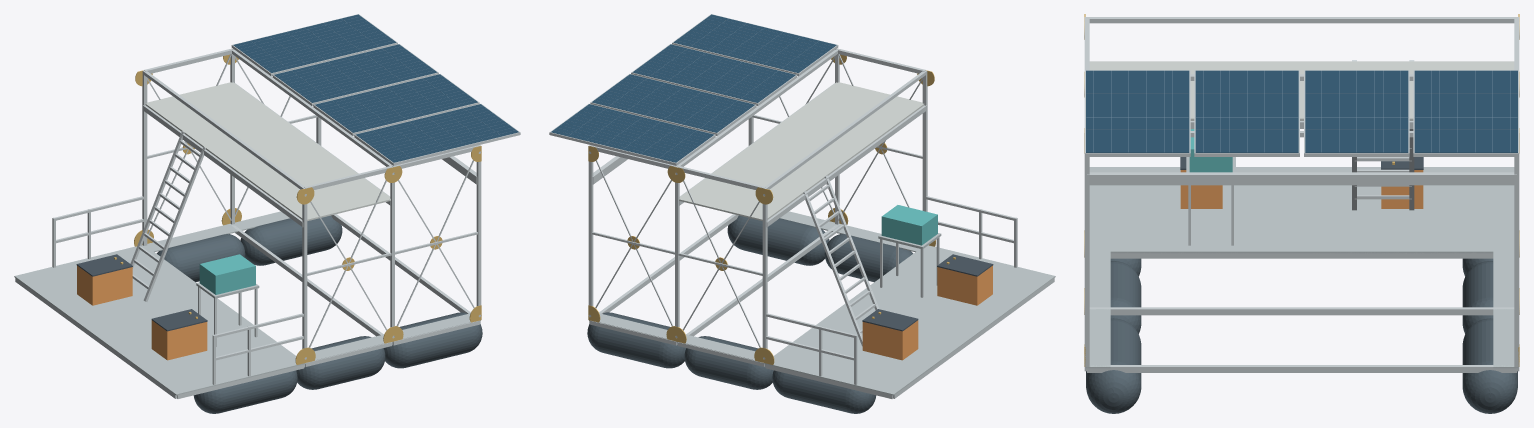
File: EXO01_reference.glb
3 renders of one model, left to right at view 1: azimuth 30°, elevation 25°; view 2: azimuth 150°, elevation 25°; view 3: azimuth 270°, elevation 25°, orthographic. The views are drawn at different scales.
Parts seen in each view (by area): view 1: panel_face (×4), deck_plate_proxy, upper_observation_deck_proxy, float_envelope_proxy (×5), battery_proxy (×2), panel_frame (×4), base_crossmember_end (×2), electronics_proxy, lid (×2), walkway_-1 (×2), walkway_1 (×2), portal_0_header (+12 smaller); view 2: panel_face (×4), deck_plate_proxy, upper_observation_deck_proxy, float_envelope_proxy (×5), battery_proxy (×2), panel_frame (×4), base_crossmember_end (×2), electronics_proxy, lid (×2), walkway_1 (×2), portal_0_header, portal_0_top (+12 smaller); view 3: panel_face (×4), deck_plate_proxy, float_envelope_proxy (×4), base_crossmember_end (×2), portal_2_header, upper_observation_deck_proxy, panel_frame (×4), portal_0_top, walkway_-1 (×2), walkway_1 (×2), deck_crossmember_4, battery_proxy (×2) (+3 smaller).
Part boxes in pixels (bbox=[...]): panel_face (×4): bbox=[233, 14, 518, 162]; deck_plate_proxy: bbox=[14, 245, 305, 395]; upper_observation_deck_proxy: bbox=[145, 82, 390, 220]; float_envelope_proxy (×5): bbox=[156, 215, 482, 413]; battery_proxy (×2): bbox=[77, 265, 207, 360]; panel_frame (×4): bbox=[231, 14, 520, 165]; base_crossmember_end (×2): bbox=[230, 214, 480, 345]; electronics_proxy: bbox=[199, 254, 255, 294]; lid (×2): bbox=[76, 254, 207, 331]; walkway_-1 (×2): bbox=[314, 313, 480, 360]; walkway_1 (×2): bbox=[146, 211, 289, 252]; portal_0_header: bbox=[142, 105, 303, 227]; panel_face (×4): bbox=[551, 14, 836, 162]; deck_plate_proxy: bbox=[764, 245, 1055, 395]; upper_observation_deck_proxy: bbox=[679, 82, 924, 220]; float_envelope_proxy (×5): bbox=[587, 215, 913, 413]; battery_proxy (×2): bbox=[862, 265, 992, 360]; panel_frame (×4): bbox=[549, 14, 838, 165]; base_crossmember_end (×2): bbox=[589, 214, 839, 345]; electronics_proxy: bbox=[881, 205, 937, 245]; lid (×2): bbox=[862, 254, 993, 331]; walkway_1 (×2): bbox=[589, 313, 755, 360]; portal_0_header: bbox=[766, 105, 927, 227]; portal_0_top: bbox=[765, 71, 925, 189]; panel_face (×4): bbox=[1086, 70, 1517, 152]; deck_plate_proxy: bbox=[1089, 167, 1514, 253]; float_envelope_proxy (×4): bbox=[1086, 261, 1517, 413]; base_crossmember_end (×2): bbox=[1087, 307, 1516, 372]; portal_2_header: bbox=[1087, 172, 1516, 185]; upper_observation_deck_proxy: bbox=[1089, 61, 1514, 120]; panel_frame (×4): bbox=[1084, 70, 1519, 156]; portal_0_top: bbox=[1087, 17, 1516, 23]; walkway_-1 (×2): bbox=[1085, 251, 1110, 368]; walkway_1 (×2): bbox=[1493, 251, 1518, 368]; deck_crossmember_4: bbox=[1110, 252, 1493, 258]; battery_proxy (×2): bbox=[1180, 170, 1423, 208].
Size of the model in its own units: 5.59 by 3.34 by 4.55.
